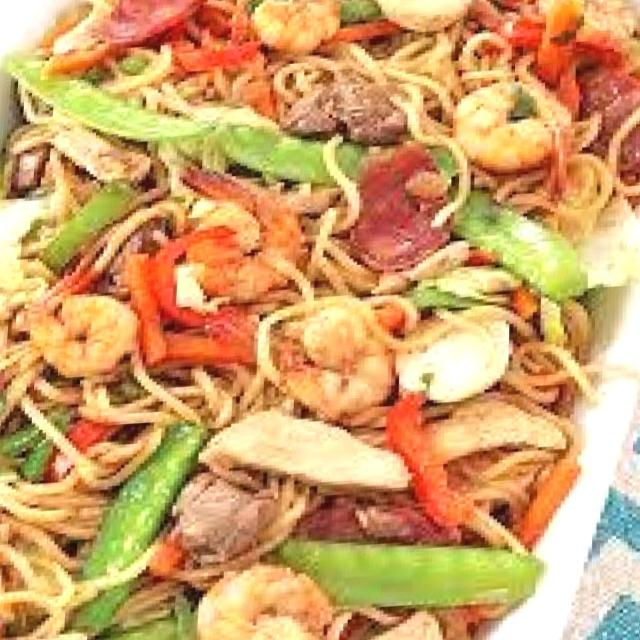pancit bihon: (2, 0, 606, 640)
